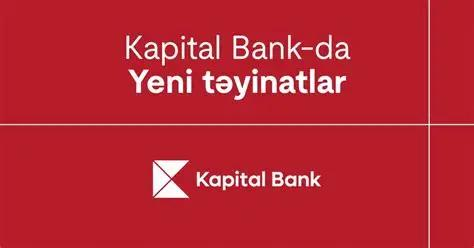Kapital Bank: (150, 156, 191, 200)
